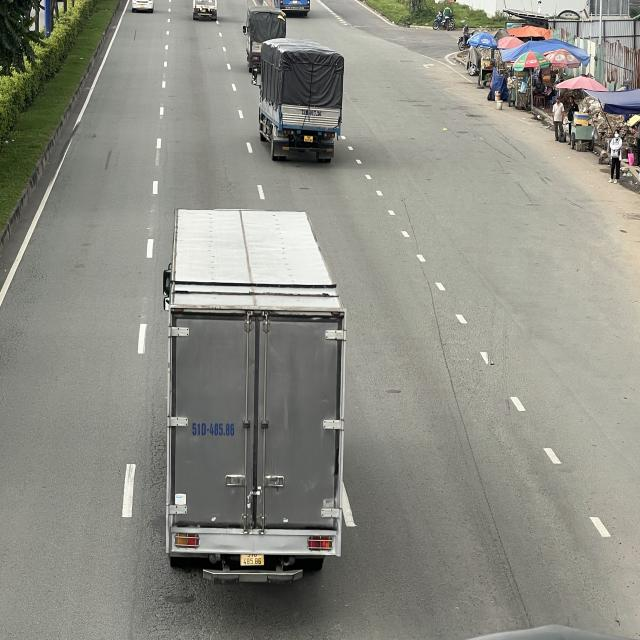truck: (160, 208, 353, 586), (255, 36, 347, 162), (244, 4, 290, 81)
